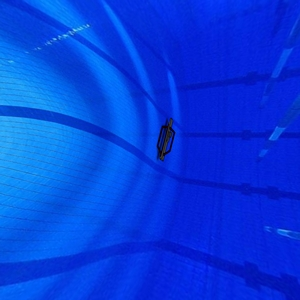submarine: (154, 110, 179, 167)
